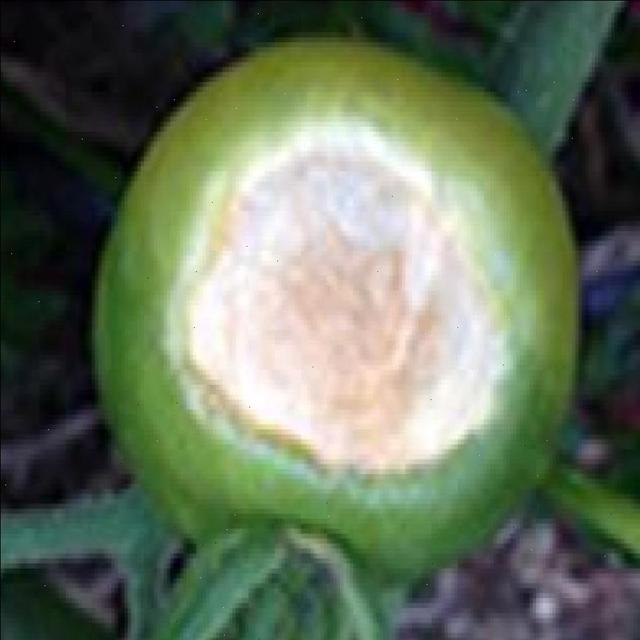Sunscald Fruit: (104, 69, 355, 334)
